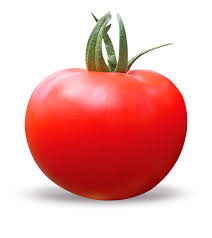Tomato: (21, 62, 192, 204)
